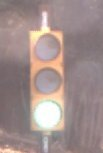Green: (26, 18, 67, 137)
